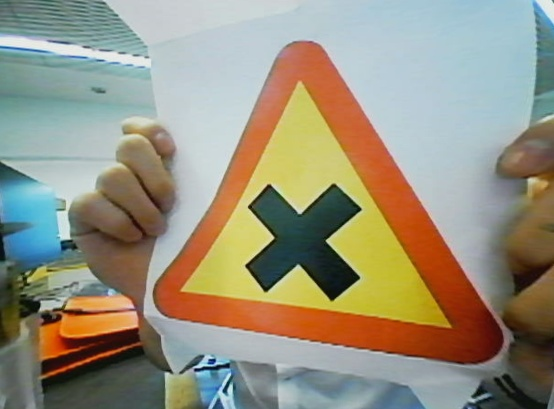junction: (162, 40, 512, 373)
